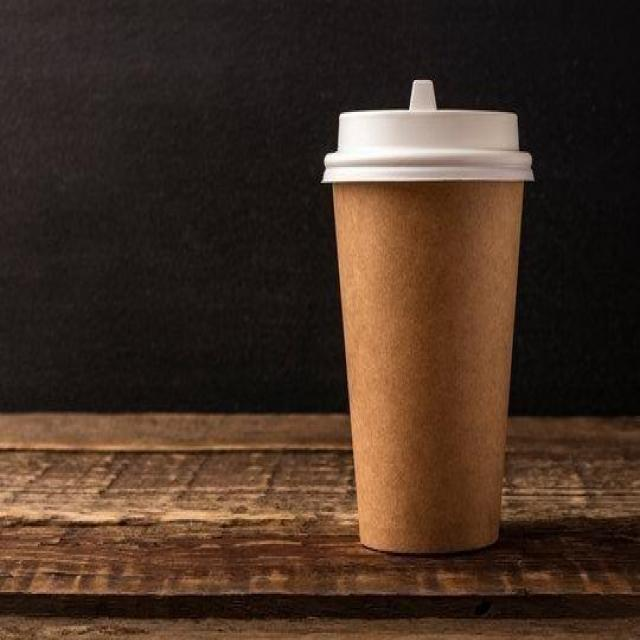cup-disposable: (320, 98, 536, 562)
